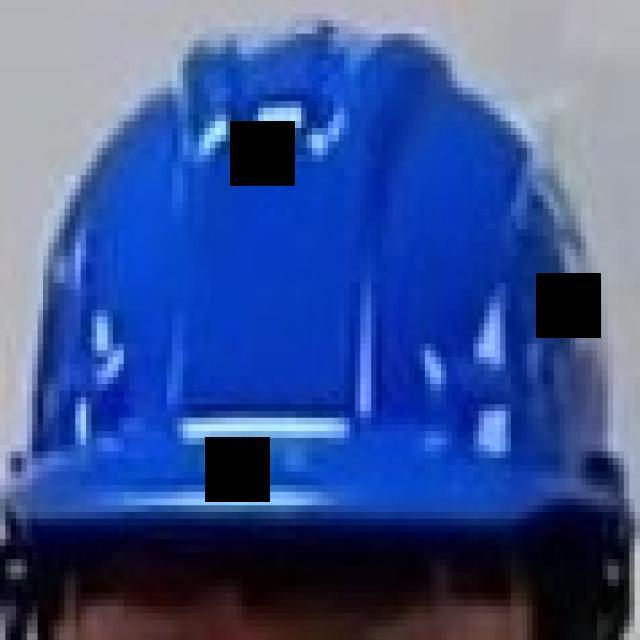blue helmet: (38, 22, 628, 565)
